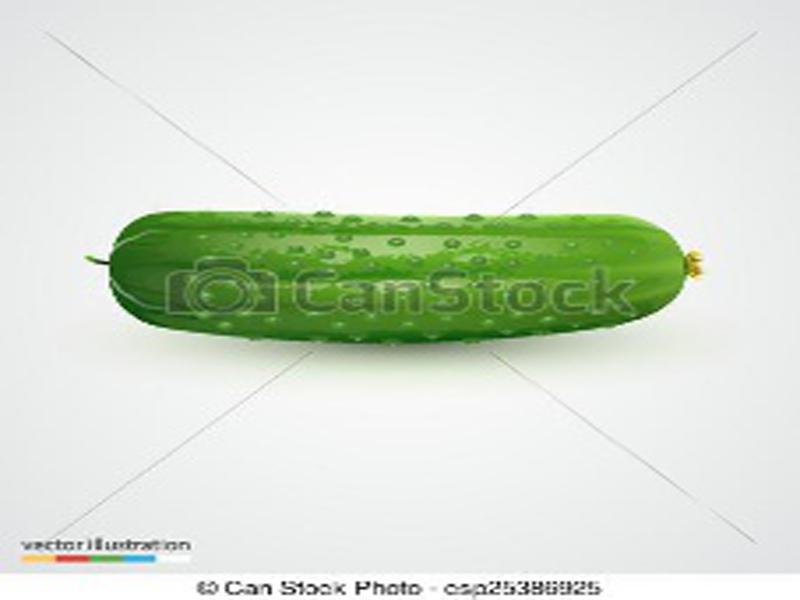Cucumber: (85, 209, 705, 341)
